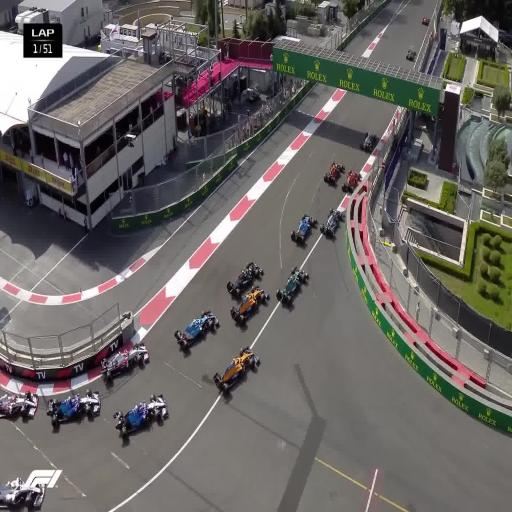f1_car: (113, 394, 168, 436), (214, 346, 259, 393), (46, 389, 101, 427), (101, 341, 149, 380), (174, 310, 219, 349), (230, 286, 269, 325), (0, 477, 45, 509), (227, 261, 263, 296), (276, 266, 309, 303), (0, 390, 38, 417), (291, 214, 317, 242), (320, 209, 342, 236), (323, 162, 345, 184), (342, 170, 361, 192), (361, 132, 377, 152), (406, 47, 416, 61), (422, 16, 430, 25)
